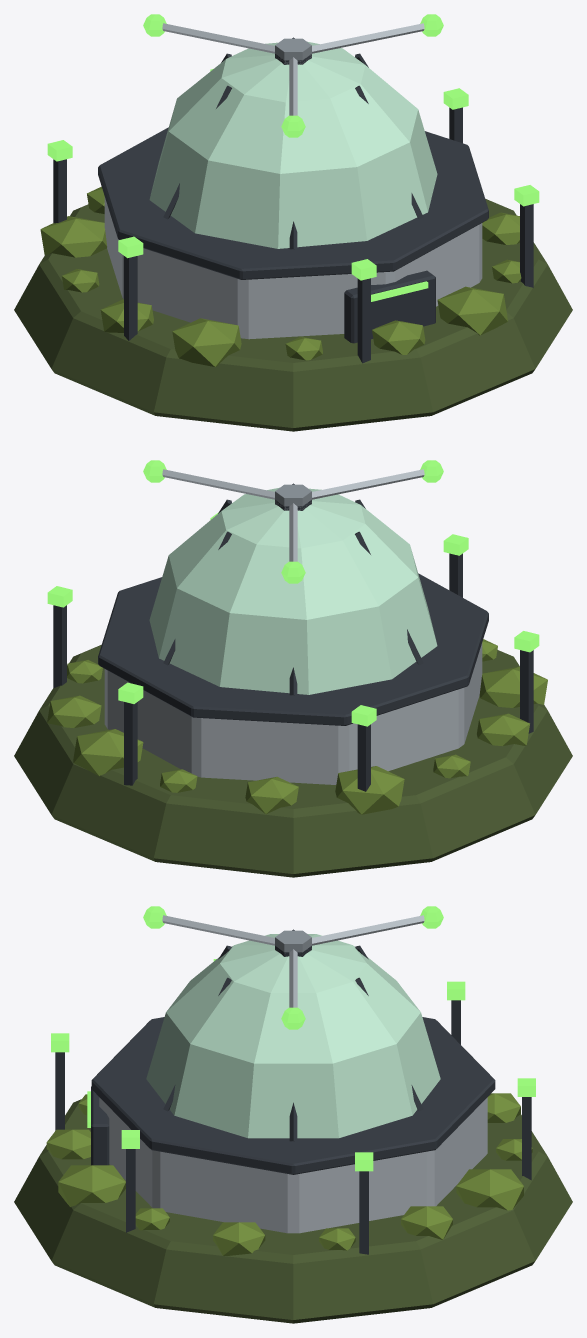
File: exo-seedbank.glb
The picture shows the model from 3 angles, top to bottom: view 1: azimuth 30°, elevation 25°; view 2: azimuth 150°, elevation 25°; view 3: azimuth 270°, elevation 25°; orthographic projection.
Parts seen in each view (by area): view 1: body, ring; view 2: body, ring; view 3: body, ring.
Part boxes in pixels (bbox=[...]): body: bbox=[14, 37, 572, 431]; ring: bbox=[143, 14, 443, 137]; body: bbox=[14, 483, 572, 877]; ring: bbox=[143, 460, 443, 583]; body: bbox=[14, 929, 572, 1323]; ring: bbox=[143, 906, 443, 1029].
Size of the model in its own units: 9.11 by 4.85 by 9.11.
